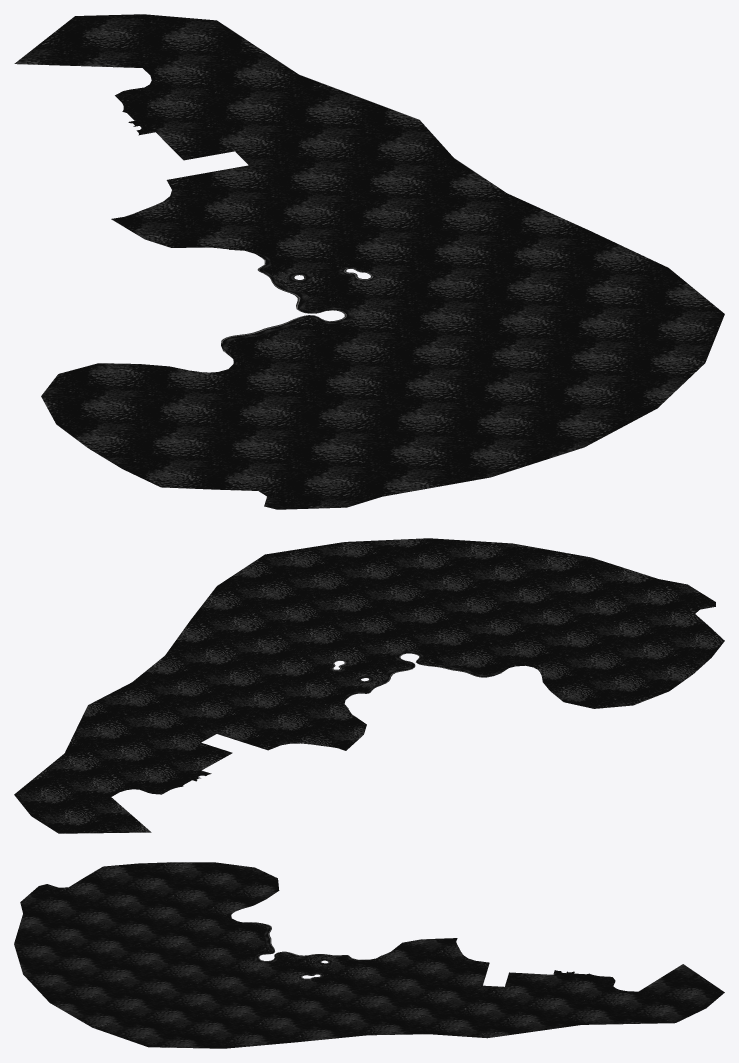
Rendered from sea_bake.dae.
3 views of the same model, one above another, from view 1: azimuth 30°, elevation 25°; view 2: azimuth 150°, elevation 25°; view 3: azimuth 270°, elevation 25° (orthographic). The views are drawn at different scales.
Parts seen in each view (by area): view 1: m3, m2; view 2: m3, m2; view 3: m3, m2.
Part boxes in pixels (x1=…): m3: x1=14, y1=14, x2=724, y2=509; m2: x1=221, y1=253, x2=375, y2=358; m3: x1=14, y1=538, x2=724, y2=833; m2: x1=330, y1=650, x2=508, y2=699; m3: x1=14, y1=862, x2=724, y2=1048; m2: x1=245, y1=922, x2=368, y2=979.
Size of the model in its own units: 89943 by 70 by 144856.
